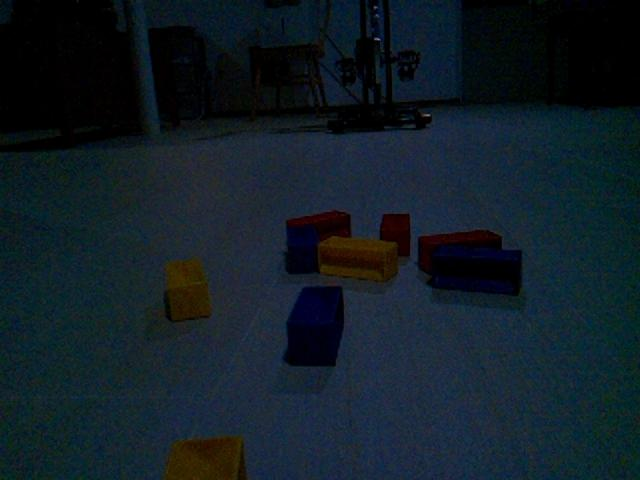blue: (428, 242, 525, 298), (283, 284, 347, 368), (284, 222, 320, 275)
red: (417, 228, 503, 275), (285, 208, 353, 243), (379, 212, 412, 258)
yellow: (316, 234, 400, 283), (162, 434, 248, 479), (162, 256, 214, 323)
